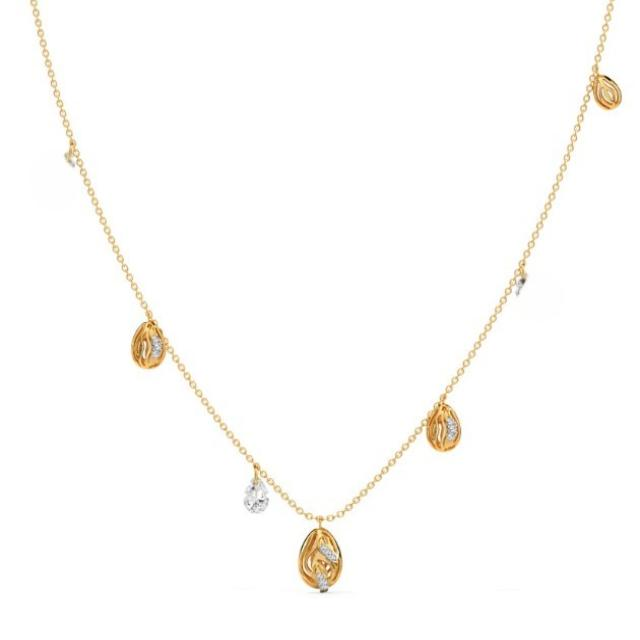missing gem: (133, 322, 165, 368)
